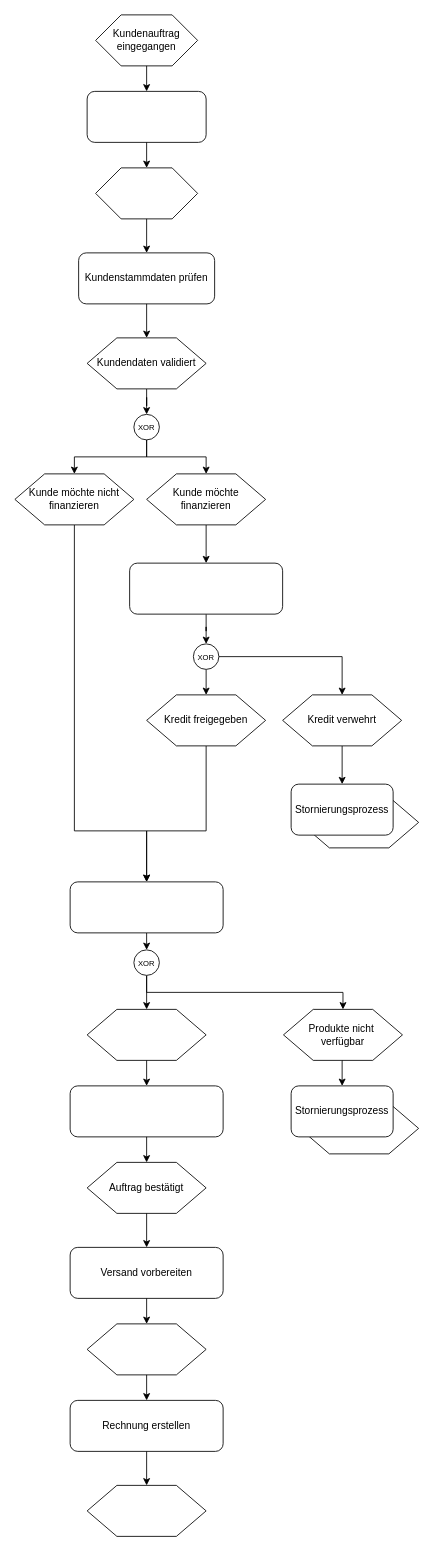
The diagram is 434 pixels wide and 1551 high, and some of its shapes have lost their labels. The shapes that lost their labels are listed below. From the top down, each one's centre as x and y in pixels, then its label:
At (146,116): "Auftrag erfassen".
At (146,193): "Auftrag erfasst".
At (206,588): "Kreditprüfung durchführen".
At (146,907): "Verfügbarkeit der Produkte prüfen".
At (146,1034): "Produkte verfügbar".
At (146,1111): "Auftragsbestätigung erstellen".
At (146,1349): "Auftrag versendet".
At (146,1510): "Auftrag abgeschlossen".
